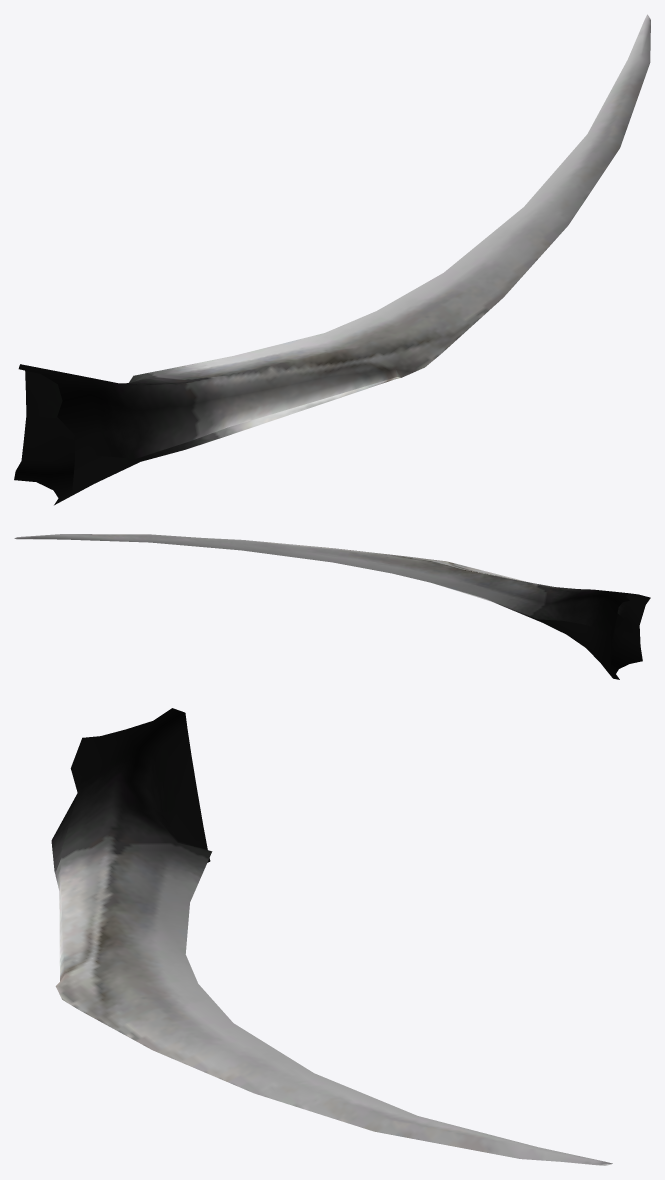
File: grimreaper_bladeglow.glb
3 views of the same model, one above another, from view 1: azimuth 30°, elevation 25°; view 2: azimuth 150°, elevation 25°; view 3: azimuth 270°, elevation 25° (orthographic). The views are drawn at different scales.
Visible parts, largest first — view 1: grimreaper_bladeglow_0; view 2: grimreaper_bladeglow_0; view 3: grimreaper_bladeglow_0.
Part boxes in pixels (box(x1,y1,x2,y2)): grimreaper_bladeglow_0: box(14, 14, 650, 505); grimreaper_bladeglow_0: box(14, 534, 650, 679); grimreaper_bladeglow_0: box(51, 708, 612, 1165).
Size of the model in its own units: 28.47 by 5.16 by 13.69.
1 material, 1 textured.
